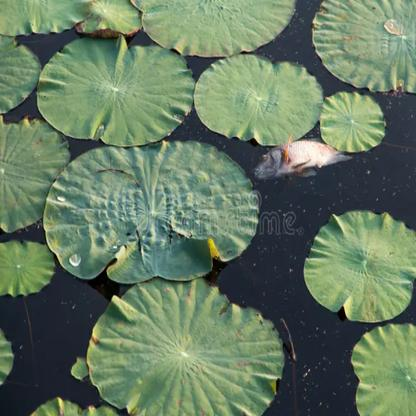deceased fish: (248, 139, 356, 180)
